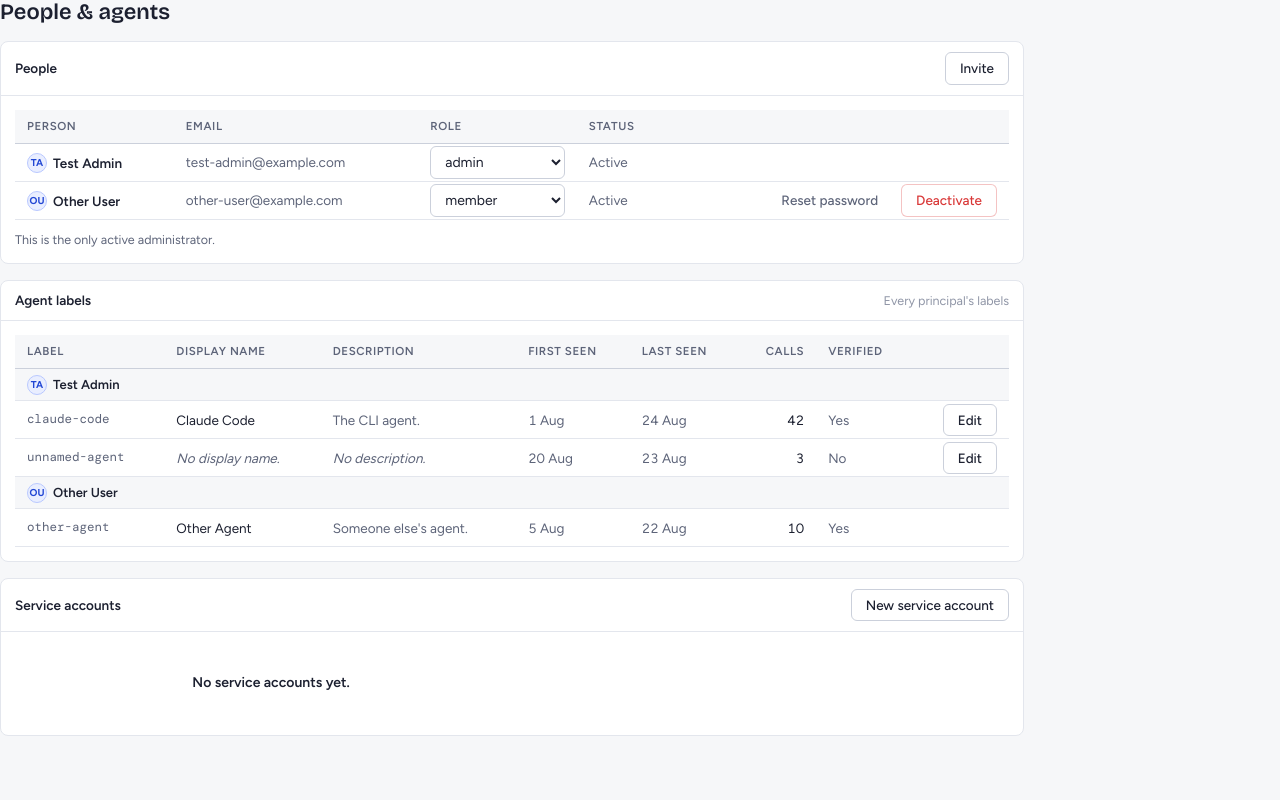
PeoplePage with sign-in by emailed code › is unchanged with codes off: the password dialog, the reset, and no pending invites
The width and height of the screenshot is (1280, 800).
Click the button "Invite" at (977, 68), box [945,52,1009,84]
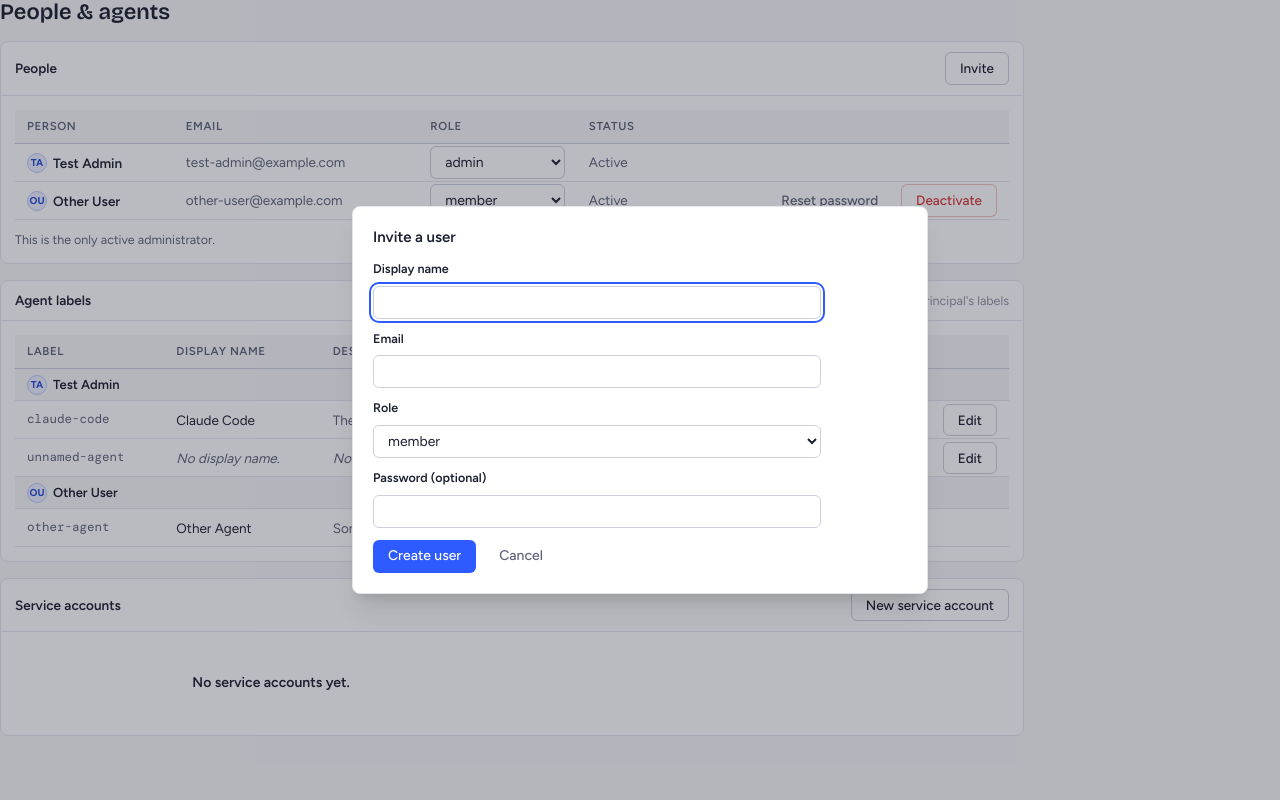
Now the password field labelled "Password (optional)" is shown, box [373,495,821,528]
